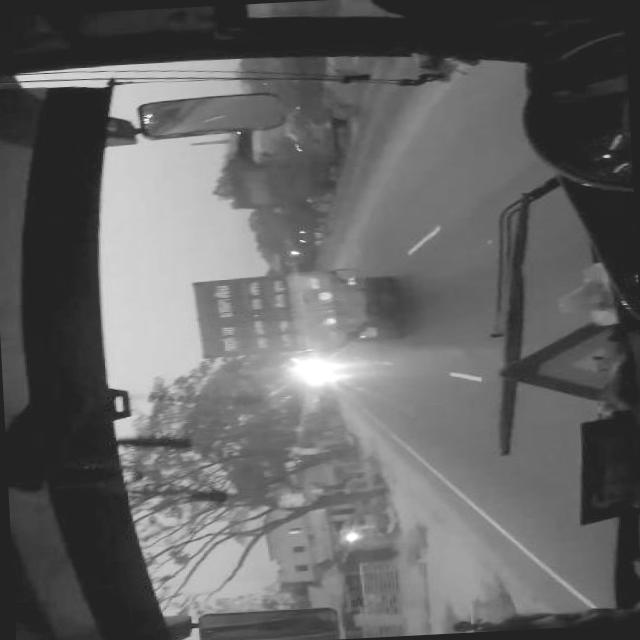truck: (190, 270, 392, 360), (228, 125, 340, 214)
